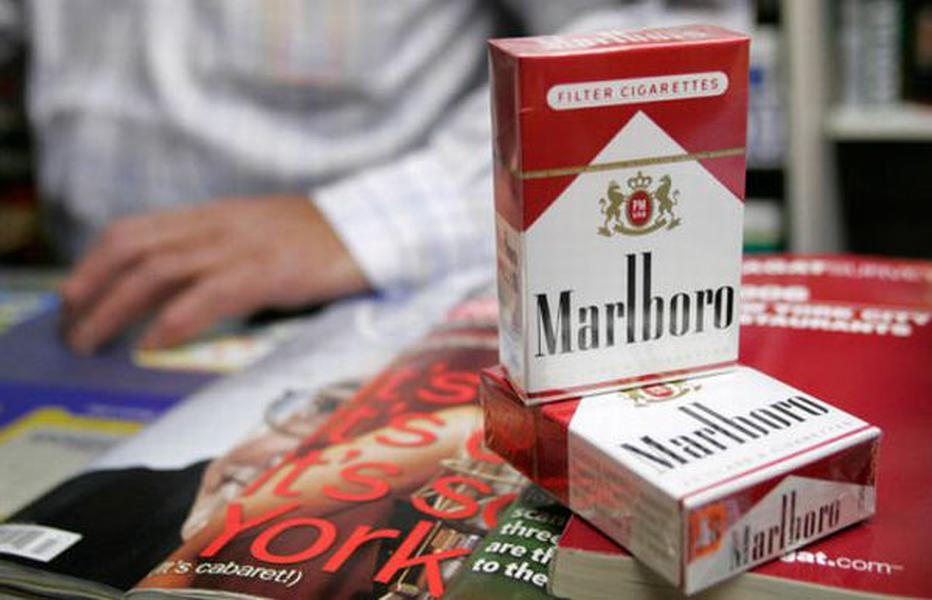marlboro_red: (523, 57, 733, 371)
